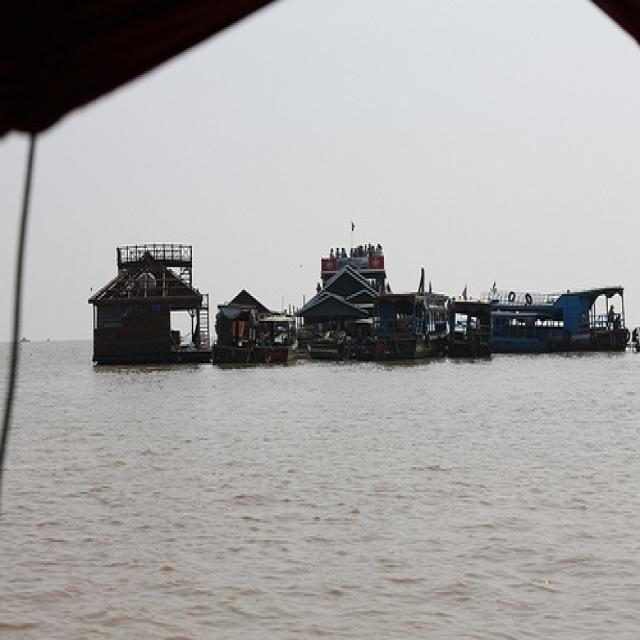Raft: (86, 243, 216, 368)
boat: (451, 295, 492, 358), (264, 311, 302, 364), (307, 340, 340, 363)
